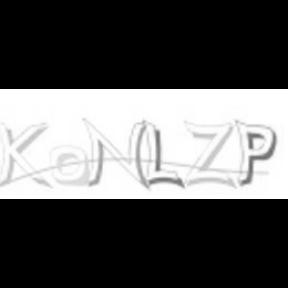K: (0, 119, 52, 191)
L: (141, 117, 183, 187)
N: (82, 115, 150, 190)
P: (234, 118, 276, 188)
Z: (182, 118, 237, 190)
o: (44, 143, 90, 187)
